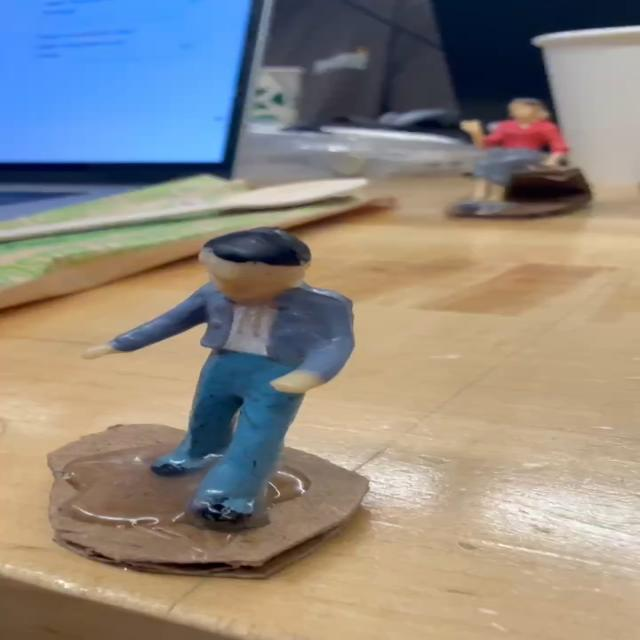Authorized: (60, 216, 405, 561)
